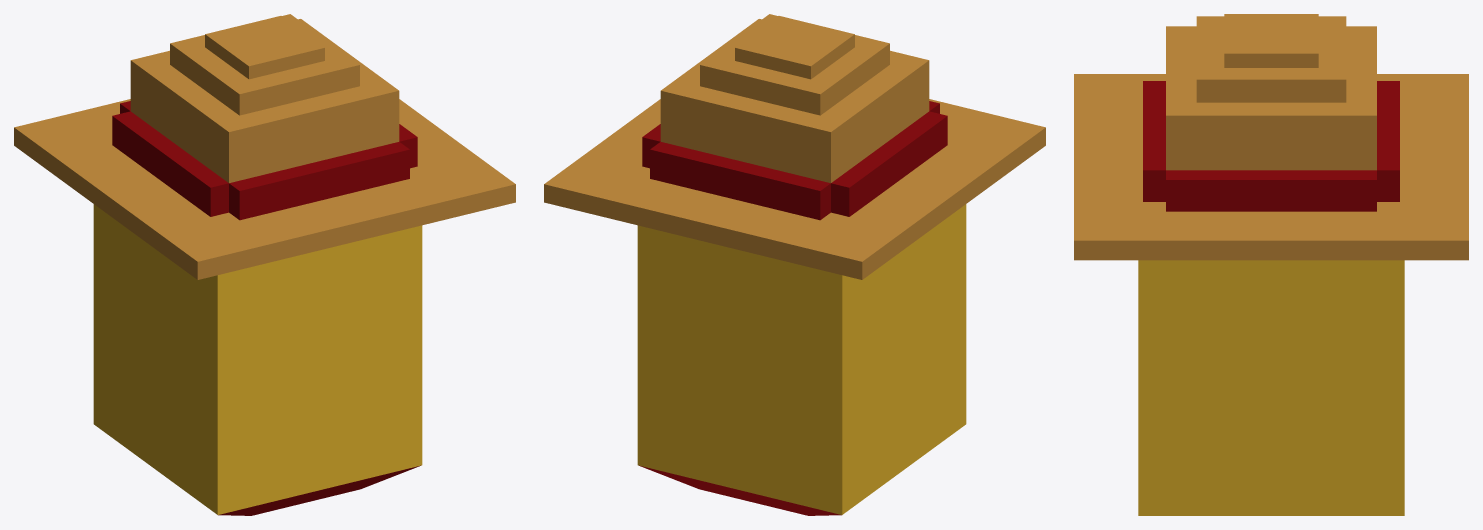
Rendered from fbx_head_farmer.fbx.
The picture shows the model from 3 angles, left to right: view 1: azimuth 30°, elevation 25°; view 2: azimuth 150°, elevation 25°; view 3: azimuth 270°, elevation 25°; orthographic projection. The views are drawn at different scales.
Parts seen in each view (by area): view 1: sm_head_farmer; view 2: sm_head_farmer; view 3: sm_head_farmer.
Part boxes in pixels (bbox=[...]): sm_head_farmer: bbox=[14, 14, 515, 515]; sm_head_farmer: bbox=[544, 14, 1045, 515]; sm_head_farmer: bbox=[1074, 14, 1468, 515].
Size of the model in its own units: 40.96 by 52.25 by 40.96.
